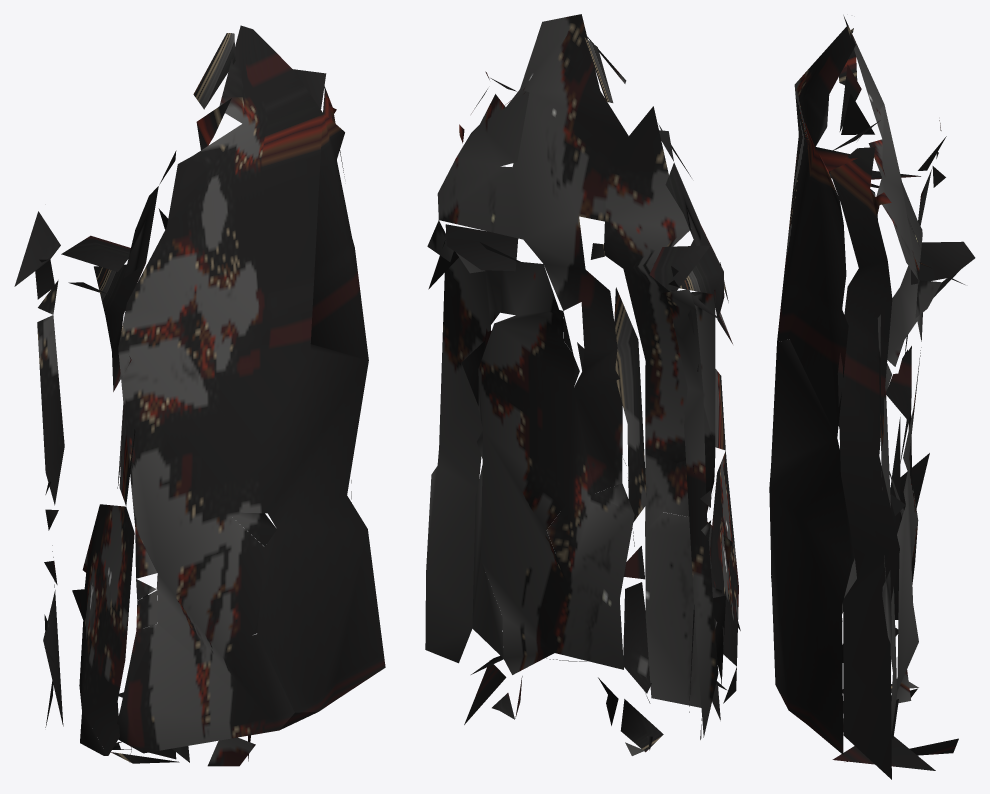
3 views of the same model, side by side, from view 1: azimuth 30°, elevation 25°; view 2: azimuth 150°, elevation 25°; view 3: azimuth 270°, elevation 25° (orthographic). The views are drawn at different scales.
Visible parts, largest first — view 1: body.002; view 2: body.002; view 3: body.002.
Part boxes in pixels (x1=…): body.002: x1=14, y1=25, x2=385, y2=766; body.002: x1=425, y1=14, x2=740, y2=755; body.002: x1=769, y1=15, x2=975, y2=779.
Bounding box in the file's own units: 0.9778 × 2.05 × 0.5171.
Materials: 1 (1 with a texture image).
